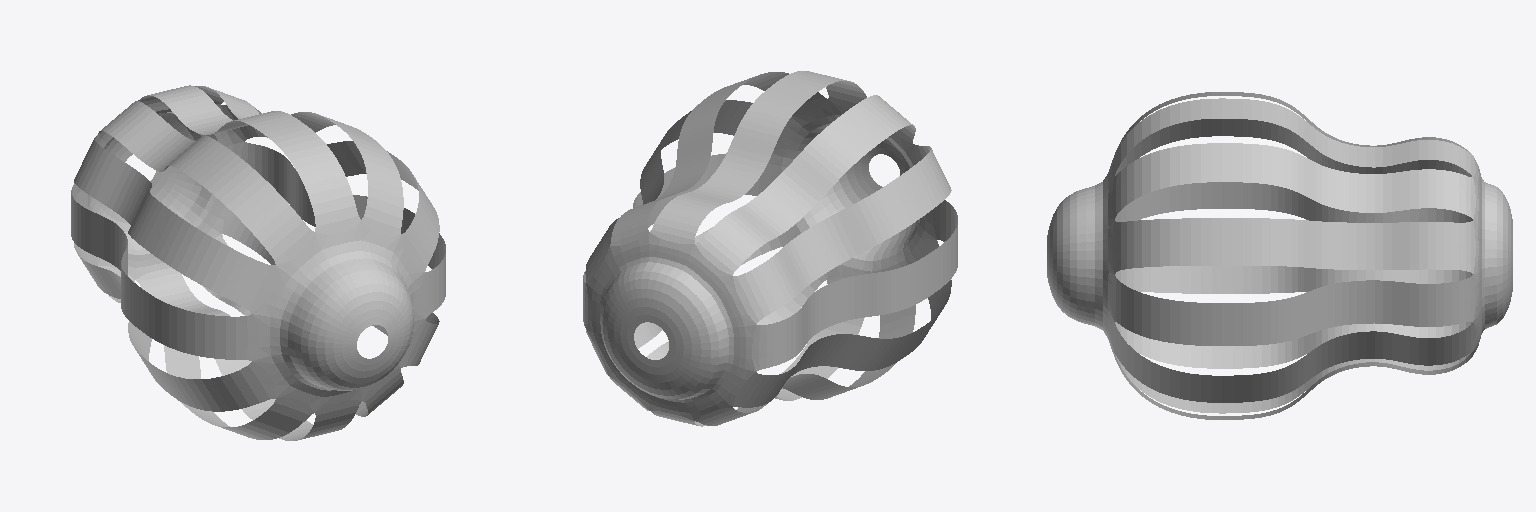
The model's file is lamp-sub1.obj.
3 renders of one model, left to right at view 1: azimuth 30°, elevation 25°; view 2: azimuth 150°, elevation 25°; view 3: azimuth 270°, elevation 25°, orthographic.
Visible parts, largest first — view 1: Plane; view 2: Plane; view 3: Plane.
Part boxes in pixels (left/top/right/bottom): Plane: left=71, top=85, right=445, bottom=440; Plane: left=583, top=71, right=957, bottom=426; Plane: left=1047, top=92, right=1512, bottom=419.
Size of the model in its own units: 5.71 by 5.71 by 8.18.